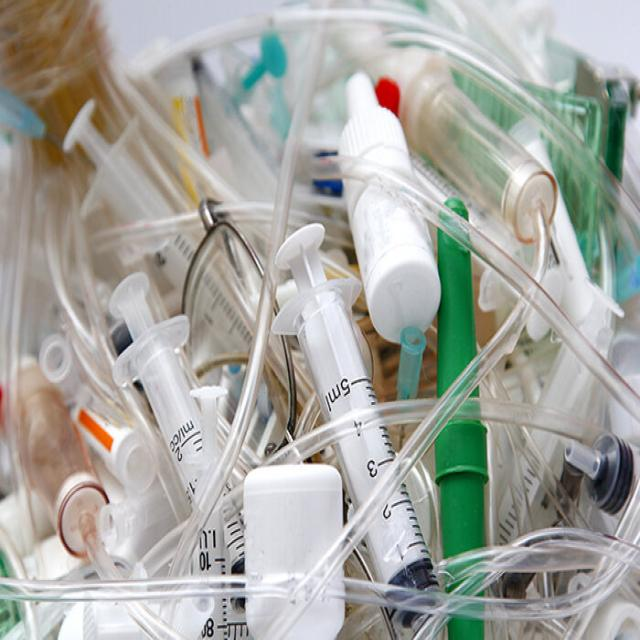Medical Waste: (4, 0, 635, 640)
